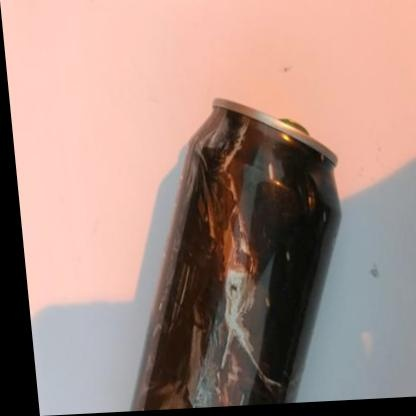trash: (133, 99, 339, 409)
